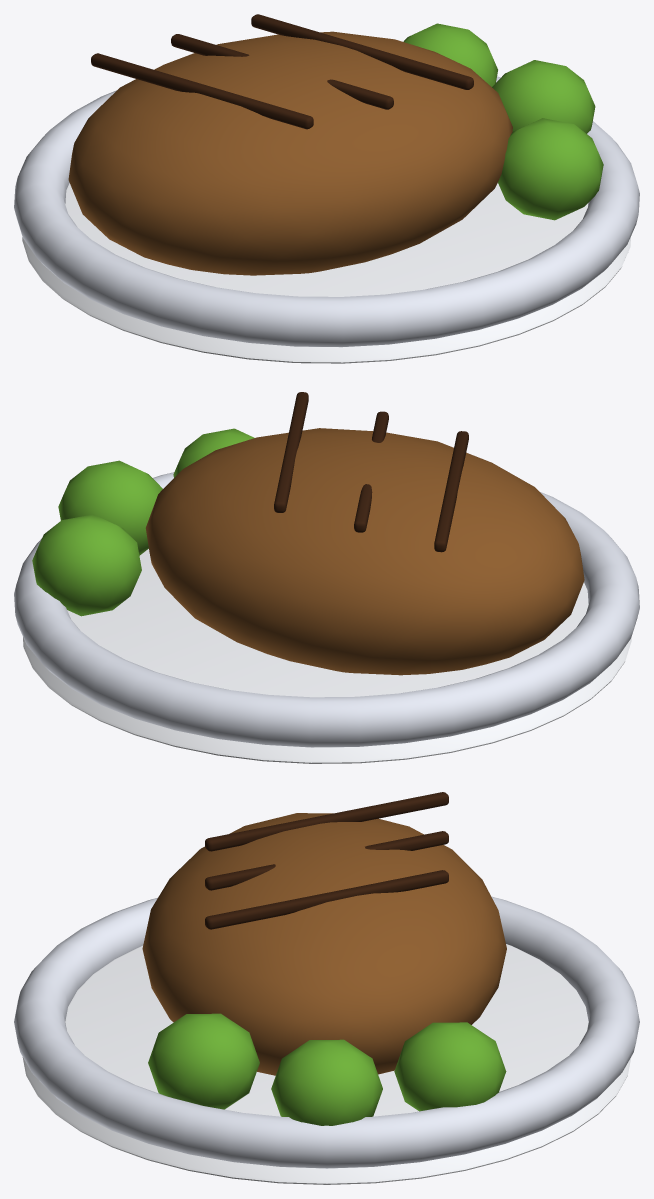
The model's file is dish_steak.glb.
3 views of the same model, one above another, from view 1: azimuth 30°, elevation 25°; view 2: azimuth 150°, elevation 25°; view 3: azimuth 270°, elevation 25° (orthographic).
Parts seen in each view (by area): view 1: steak, rim, plate, bean.002, bean.001, mark, mark.002, bean, mark.001; view 2: steak, rim, plate, bean, bean.001, mark, mark.002, bean.002, mark.001; view 3: steak, rim, plate, bean.002, bean, bean.001, mark.002, mark, mark.001.
Part boxes in pixels (bbox=[...]): steak: bbox=[68, 31, 512, 275]; rim: bbox=[14, 76, 639, 347]; plate: bbox=[22, 183, 630, 363]; bean.002: bbox=[498, 118, 603, 220]; bean.001: bbox=[492, 60, 595, 133]; mark: bbox=[91, 53, 313, 129]; mark.002: bbox=[251, 14, 473, 89]; bean: bbox=[403, 23, 497, 86]; mark.001: bbox=[171, 34, 393, 109]; steak: bbox=[145, 428, 584, 675]; rim: bbox=[14, 472, 639, 747]; plate: bbox=[23, 549, 631, 763]; bean: bbox=[32, 514, 141, 616]; bean.001: bbox=[58, 460, 162, 555]; mark: bbox=[434, 431, 468, 552]; mark.002: bbox=[274, 392, 308, 512]; bean.002: bbox=[173, 428, 254, 477]; mark.001: bbox=[354, 411, 388, 532]; steak: bbox=[142, 813, 506, 1075]; rim: bbox=[14, 896, 639, 1168]; plate: bbox=[22, 944, 631, 1184]; bean.002: bbox=[148, 1013, 259, 1109]; bean: bbox=[394, 1022, 506, 1111]; bean.001: bbox=[271, 1039, 382, 1125]; mark.002: bbox=[205, 870, 448, 929]; mark: bbox=[205, 792, 448, 851]; mark.001: bbox=[205, 831, 448, 890].
Size of the model in its own units: 0.61 by 0.1986 by 0.61.
